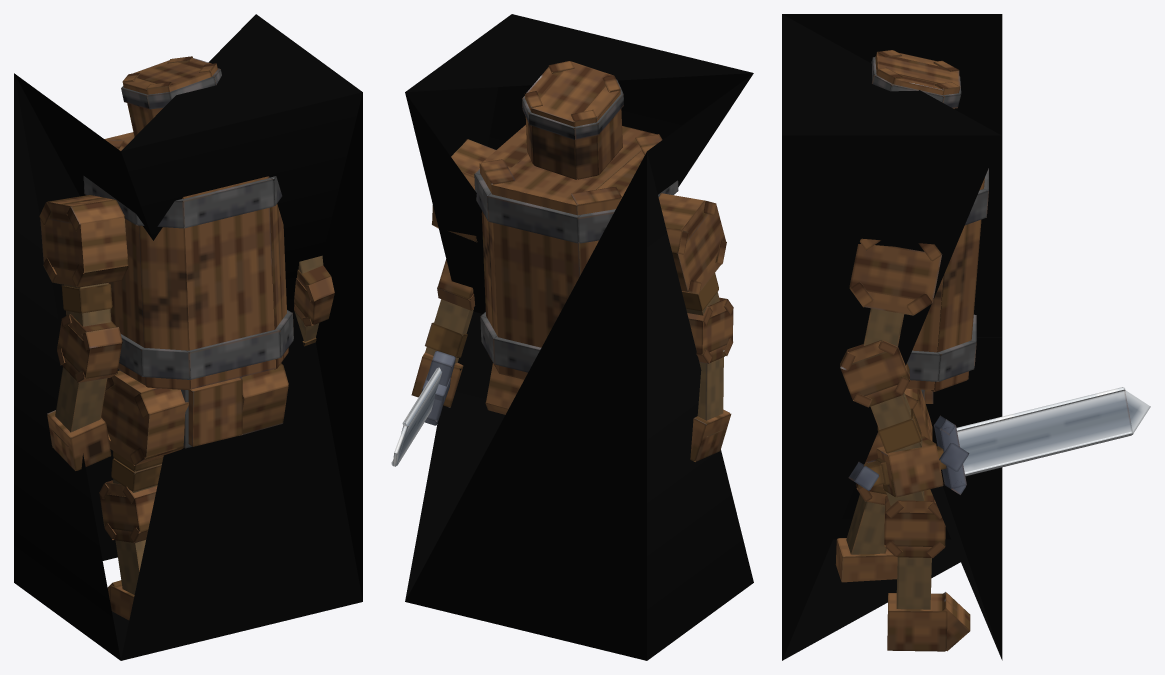
The model's file is monster.fbx.
3 renders of one model, left to right at view 1: azimuth 30°, elevation 25°; view 2: azimuth 150°, elevation 25°; view 3: azimuth 270°, elevation 25°, orthographic. The views are drawn at different scales.
Visible parts, largest first — view 1: cube_0, cube_4, cube_9, cube_43, cube_101, cube_95, cube_5, cube_14, cube_21, cube_55, cube_54, cube_50 (+24 smaller); view 2: cube_0, cube_4, cube_28, cube_14, cube_43, cube_7, cube_27, cube_42, cube_5, cube_54, cube_55, cube_6 (+14 smaller); view 3: cube_0, cube_75, cube_7, cube_62, cube_133, cube_74, cube_69, cube_129, cube_114, cube_132, cube_113, cube_28 (+16 smaller).
Boxes of the visible parts, box(x1,y1,x2,y2) form: cube_0: box(14, 14, 362, 660); cube_4: box(104, 132, 275, 389); cube_9: box(139, 197, 191, 390); cube_43: box(40, 217, 128, 272); cube_101: box(101, 388, 188, 457); cube_95: box(188, 377, 242, 446); cube_5: box(108, 218, 145, 385); cube_14: box(180, 177, 274, 228); cube_21: box(185, 328, 280, 379); cube_55: box(47, 410, 111, 470); cube_54: box(52, 367, 107, 446); cube_50: box(57, 321, 121, 378); cube_0: box(405, 14, 753, 660); cube_4: box(492, 126, 656, 379); cube_28: box(531, 61, 613, 179); cube_14: box(487, 193, 581, 243); cube_43: box(672, 205, 726, 291); cube_7: box(479, 159, 514, 373); cube_27: box(526, 67, 622, 175); cube_42: box(658, 193, 720, 291); cube_5: box(482, 125, 644, 198); cube_54: box(697, 357, 723, 437); cube_55: box(690, 409, 731, 461); cube_6: box(571, 187, 621, 274); cube_0: box(782, 14, 1002, 660); cube_75: box(957, 390, 1132, 472); cube_7: box(931, 178, 984, 391); cube_62: box(849, 244, 941, 302); cube_133: box(887, 593, 947, 651); cube_74: box(876, 436, 943, 497); cube_69: box(840, 347, 909, 400); cube_129: box(884, 499, 945, 546); cube_114: box(835, 538, 897, 582); cube_132: box(896, 557, 931, 609); cube_113: box(842, 494, 886, 556); cube_28: box(875, 52, 960, 88).
Size of the model in its own units: 128 by 226 by 136.
Materials: 2 (2 with a texture image).
